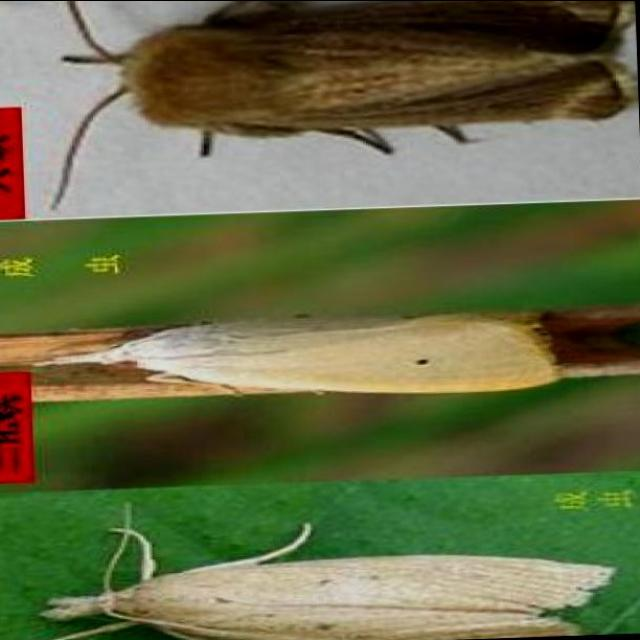stem borer: (42, 0, 633, 208), (44, 504, 612, 640), (60, 315, 640, 394)
